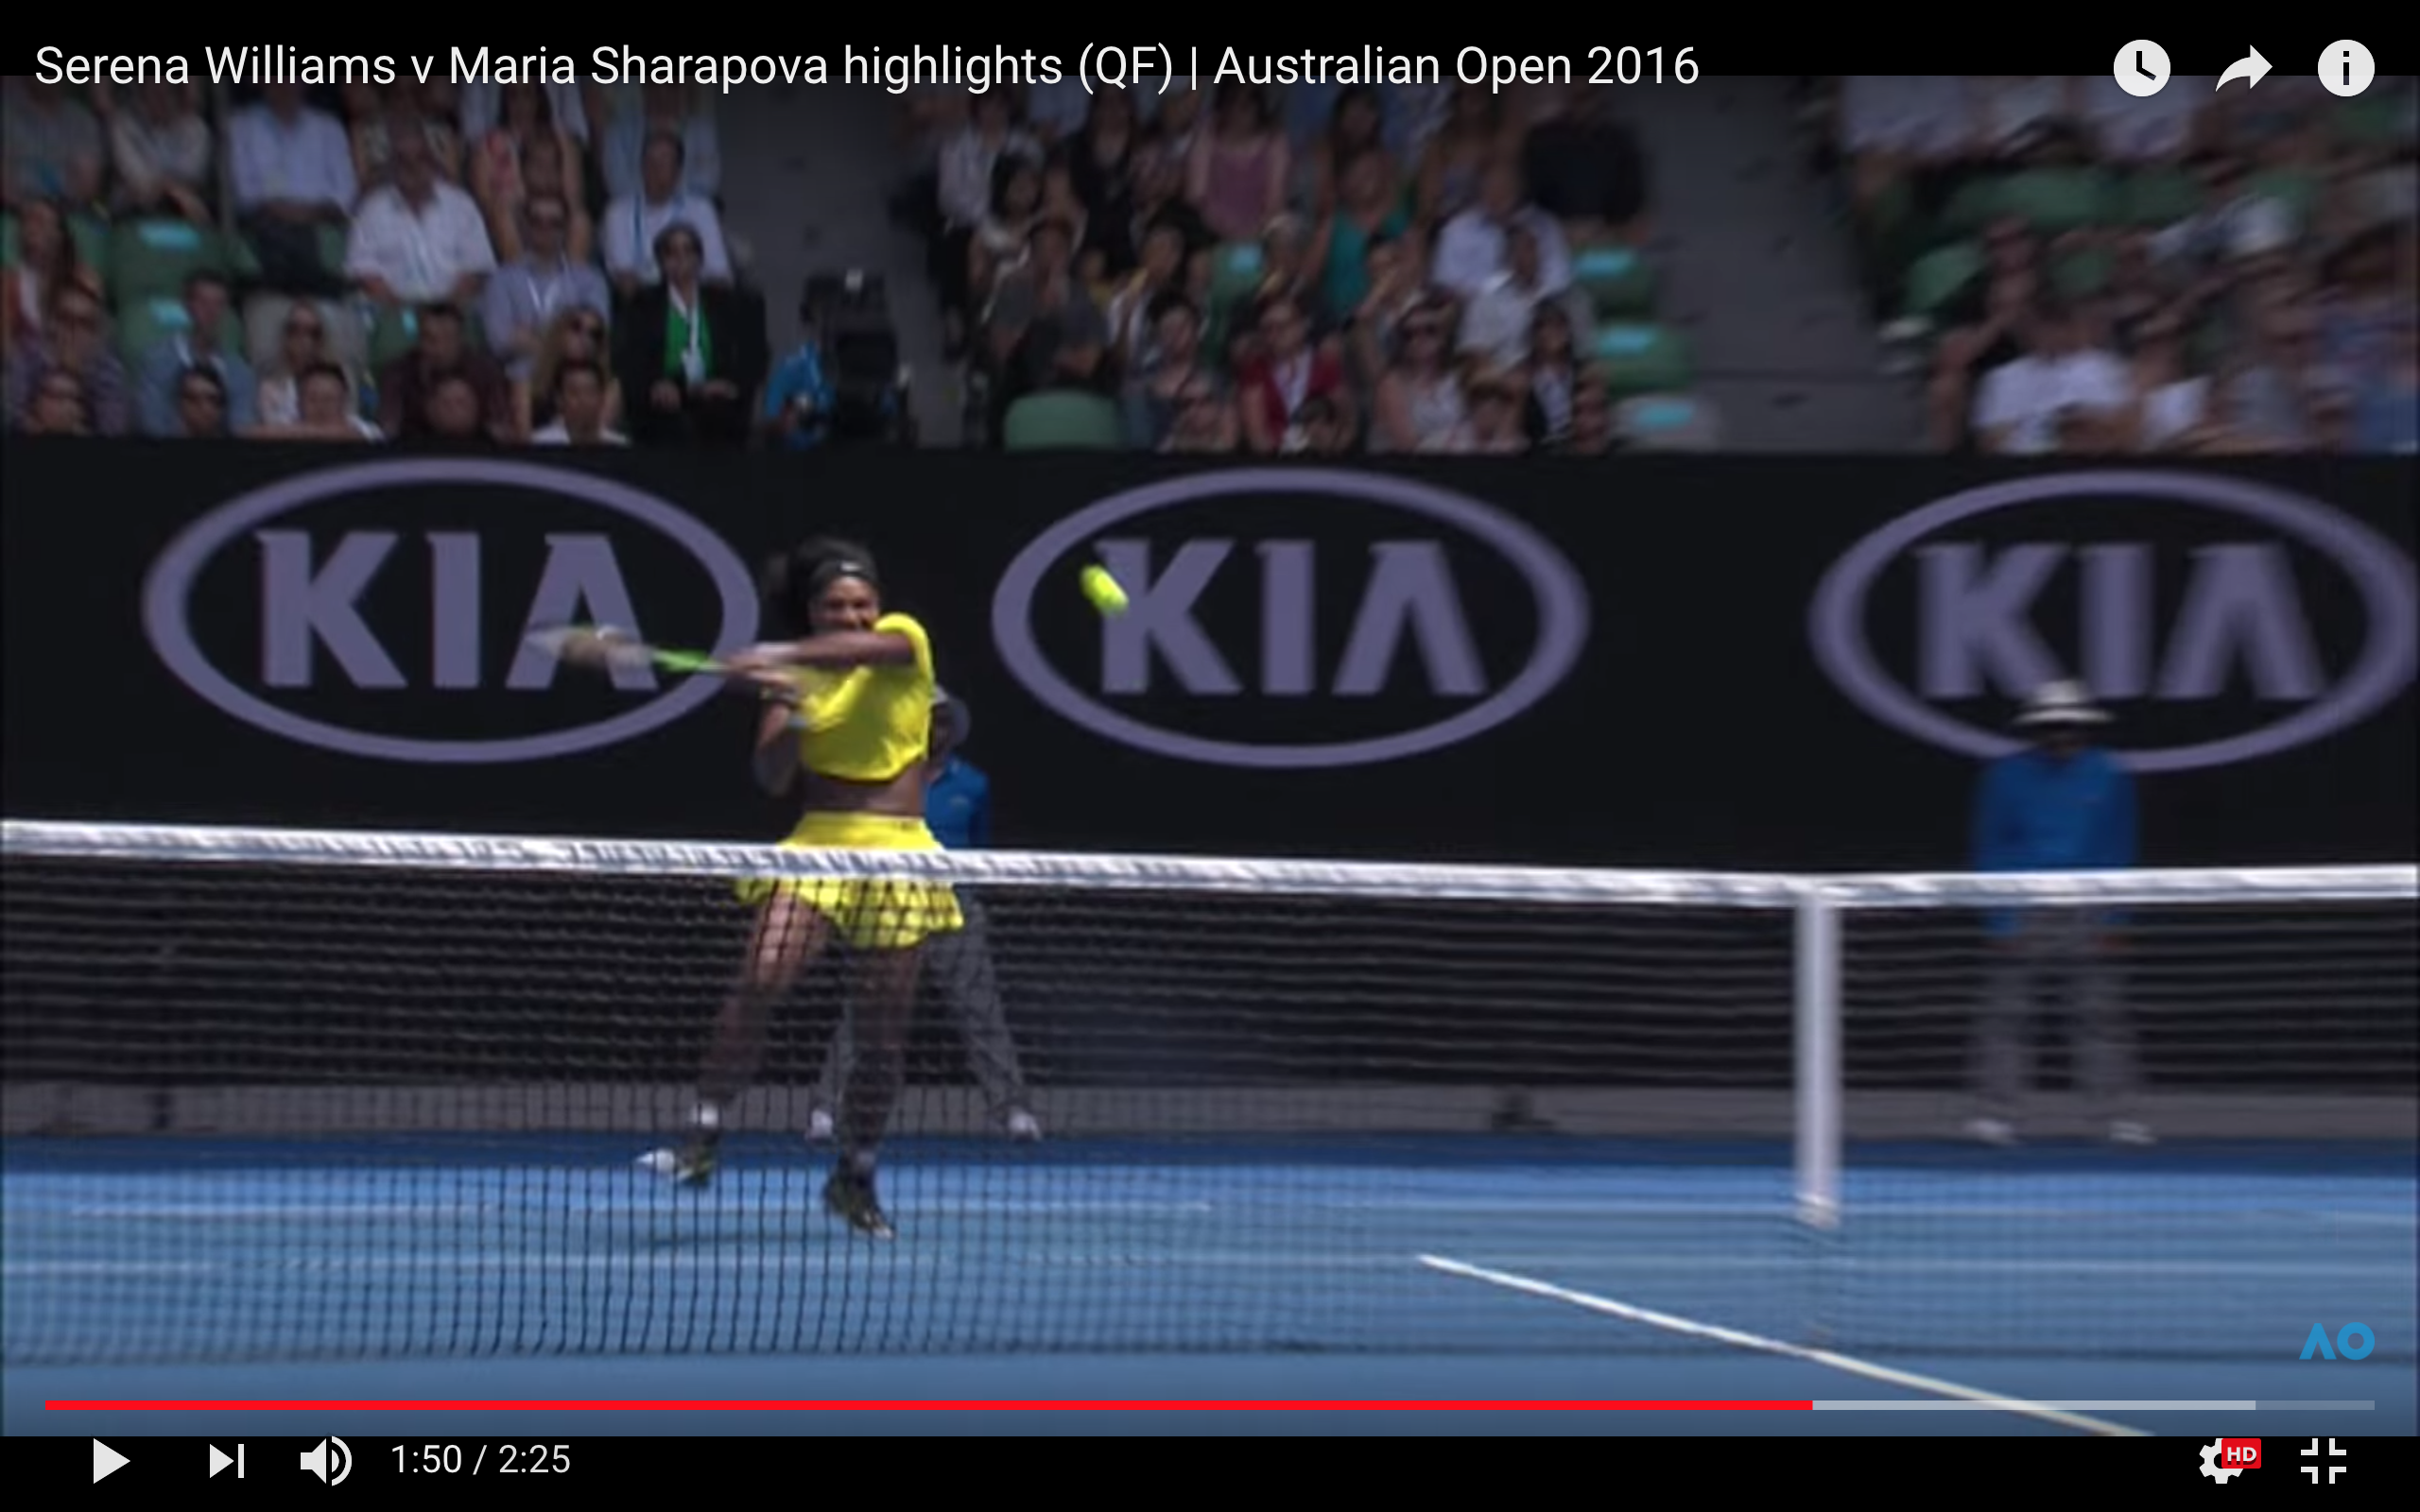tennis ball: (1075, 565, 1137, 620)
tennis player: (701, 544, 965, 1243)
